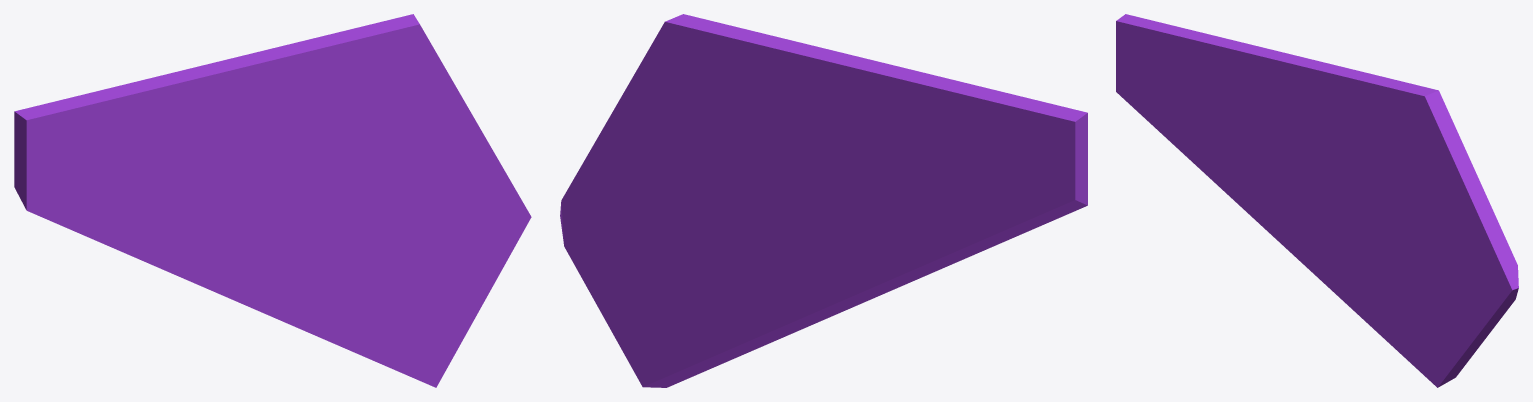
Rendered from Glass_3_5_chunks.fbx.
3 views of the same model, side by side, from view 1: azimuth 30°, elevation 25°; view 2: azimuth 150°, elevation 25°; view 3: azimuth 330°, elevation 25° (orthographic). The views are drawn at different scales.
Visible parts, largest first — view 1: Glass_3_5_2, Glass_3_5_3, Glass_3_5_0, Glass_3_5_1; view 2: Glass_3_5_2, Glass_3_5_3, Glass_3_5_0; view 3: Glass_3_5_2, Glass_3_5_3, Glass_3_5_0, Glass_3_5_1.
Part boxes in pixels (bbox=[...]): Glass_3_5_2: bbox=[14, 35, 343, 286]; Glass_3_5_3: bbox=[328, 14, 531, 282]; Glass_3_5_0: bbox=[203, 215, 494, 387]; Glass_3_5_1: bbox=[305, 173, 435, 251]; Glass_3_5_2: bbox=[753, 33, 1087, 283]; Glass_3_5_3: bbox=[560, 14, 765, 289]; Glass_3_5_0: bbox=[588, 196, 906, 387]; Glass_3_5_2: bbox=[1116, 14, 1370, 218]; Glass_3_5_3: bbox=[1356, 74, 1518, 327]; Glass_3_5_0: bbox=[1254, 202, 1496, 387]; Glass_3_5_1: bbox=[1335, 180, 1436, 280].
Bounding box in the file's own units: 652 × 451 × 27.2.
